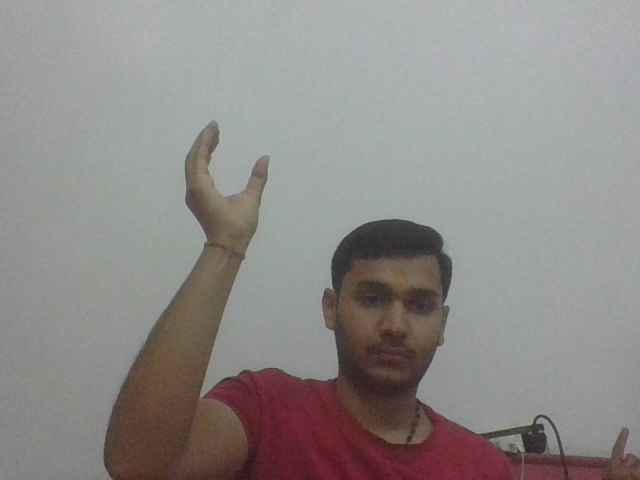U: (179, 120, 277, 245)
